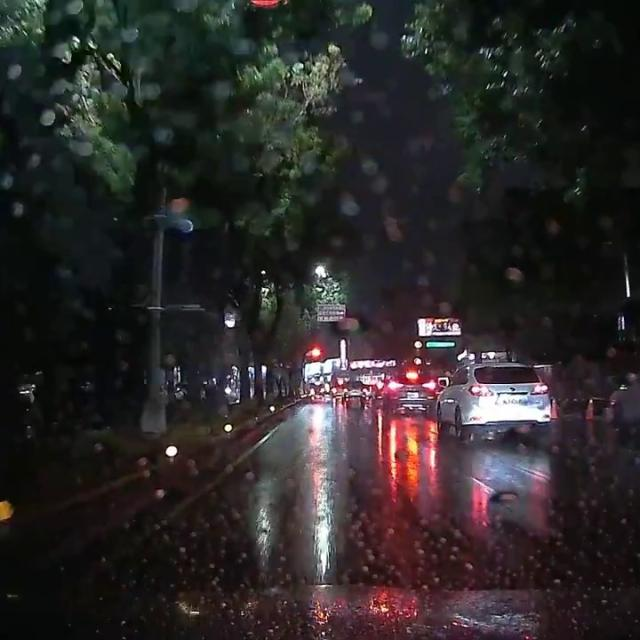Car: (429, 358, 552, 440), (377, 364, 434, 416), (338, 377, 367, 403)
